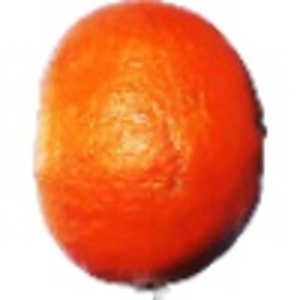tangerina: (32, 1, 268, 298)
